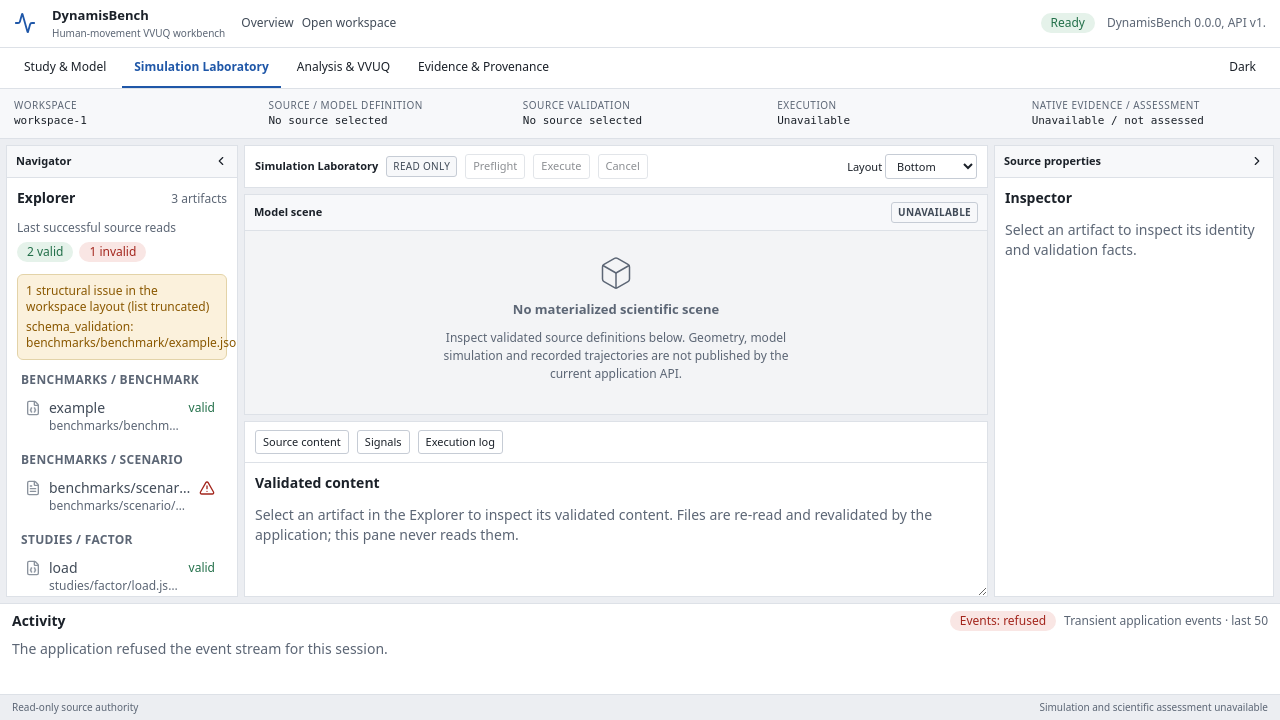
Scenario: the workspace workbench › reports a stale artifact identifier without reopening anything
The width and height of the screenshot is (1280, 720).
expect the heading "Explorer" is shown: met, box [17, 188, 75, 208]
Click the option "example benchmarks/benchmark/example.json valid": (120, 416) [17, 392, 223, 440]
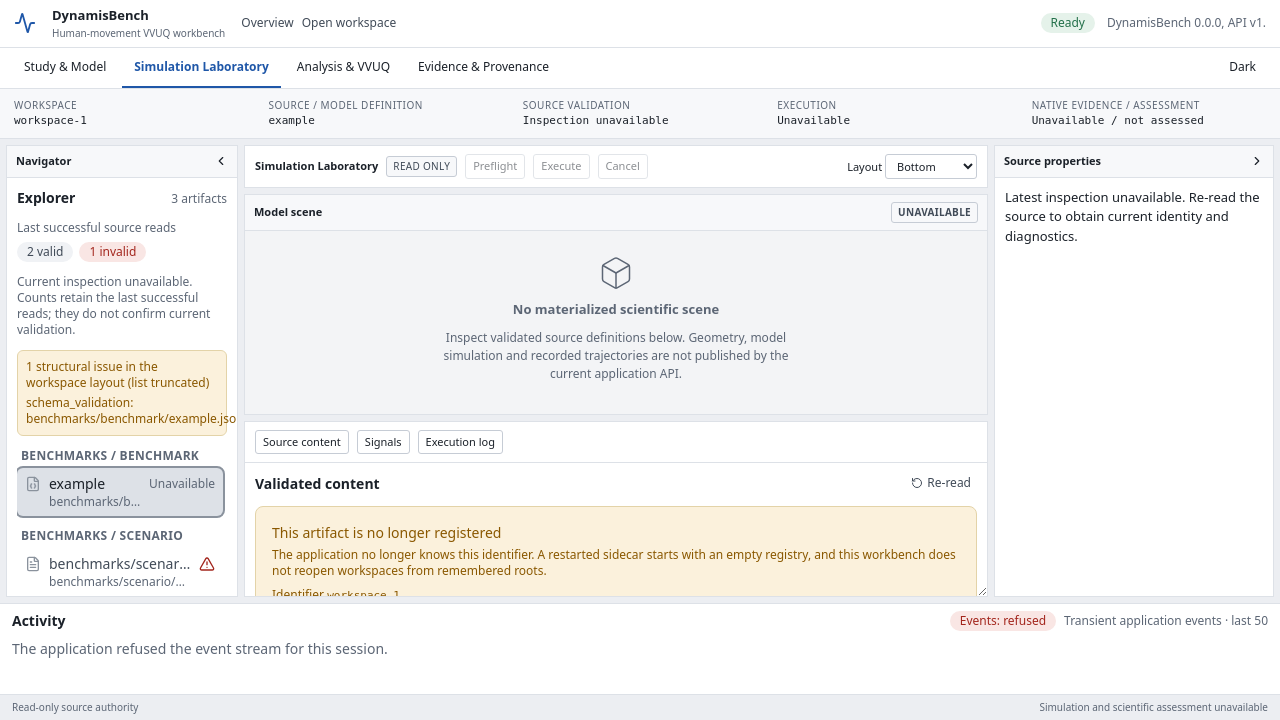
expect the text "This artifact is no longer registered" is shown: met, box [272, 523, 502, 542]
